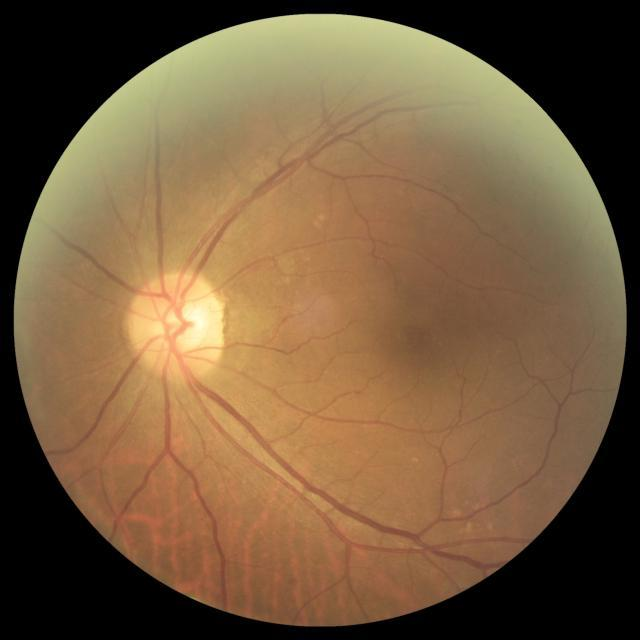OC: (161, 302, 210, 350)
OD: (128, 272, 225, 379)
